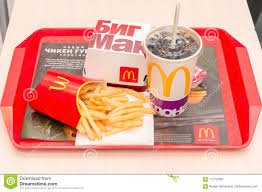coke: (135, 3, 213, 136)
